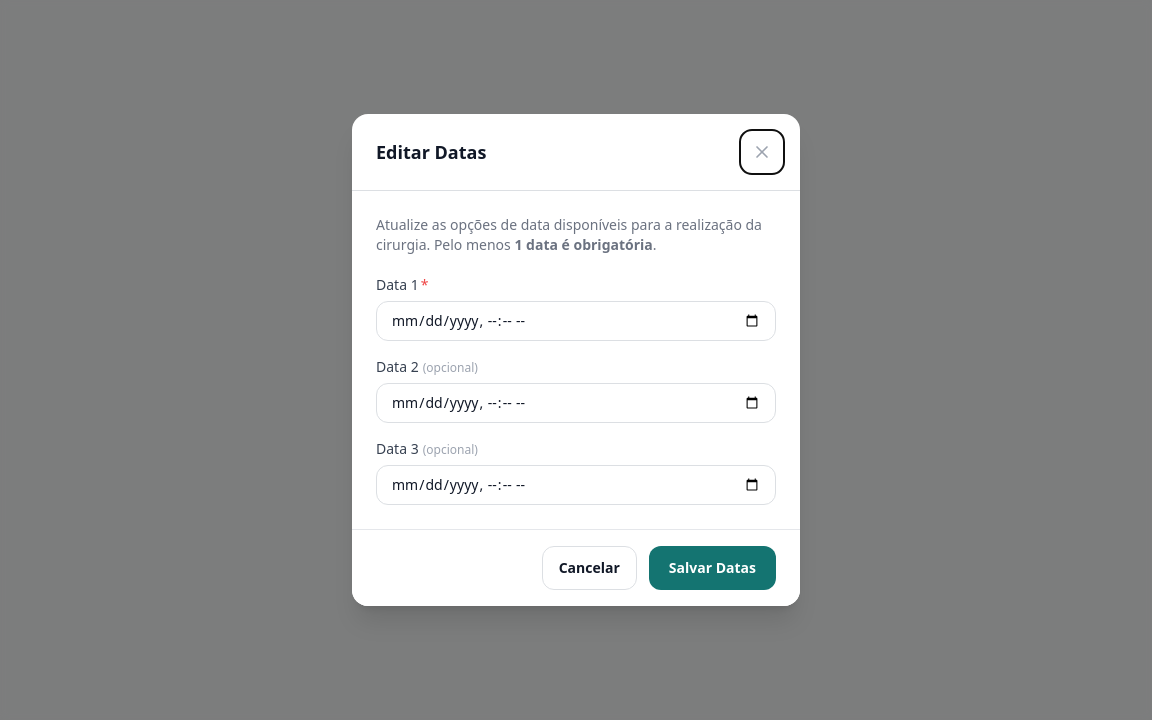
Test: EditDateOptionsModal › exige ao menos uma data
Click the button "Salvar Datas": x=712, y=568 [649,546,776,590]
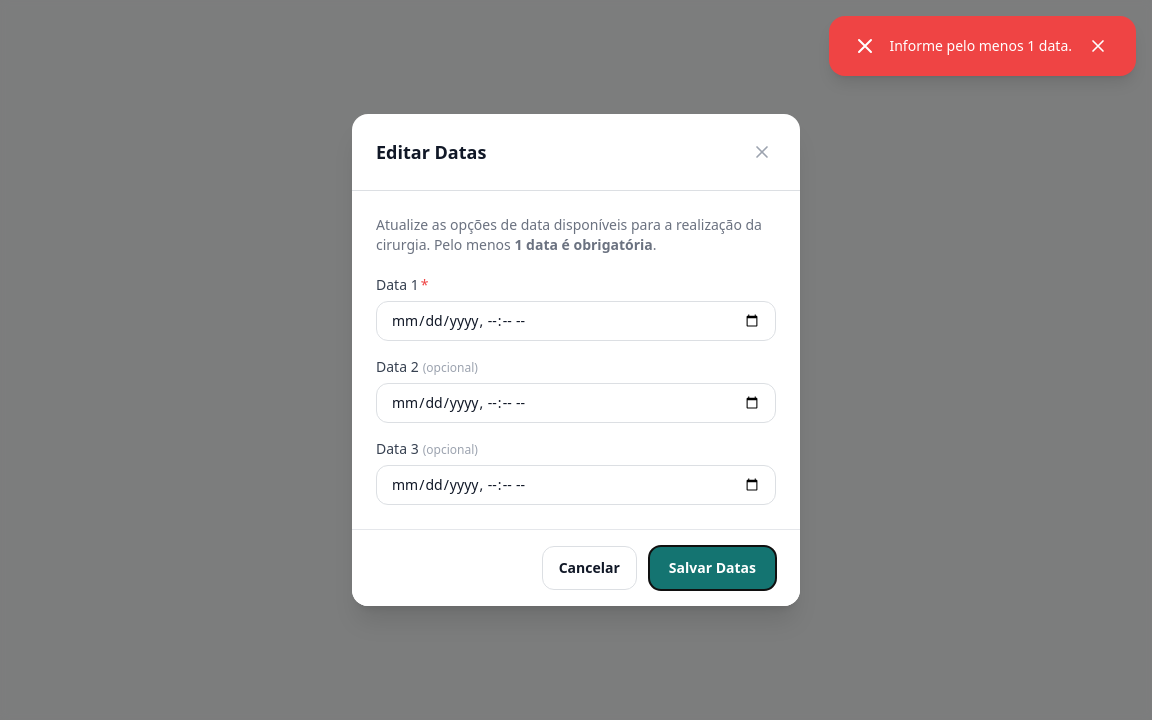
Expected: the text "Informe pelo menos 1 data." is shown, [890,36,1072,56]
